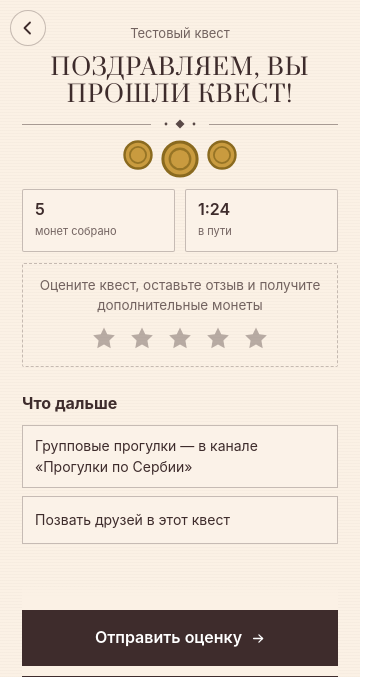
Test: the finale pays the review as it happens (#113) › pays the stars on the FIRST tap — coin toast and the counter move together
Expected: the heading "Поздравляем, вы прошли квест!" is shown, [51,52,309,110]
Expected: the element showing "5 монет собрано" is shown, [22,189,175,252]
Step 1. Click the button named "4 звёзд" → (218, 338), box [203,323,233,353]
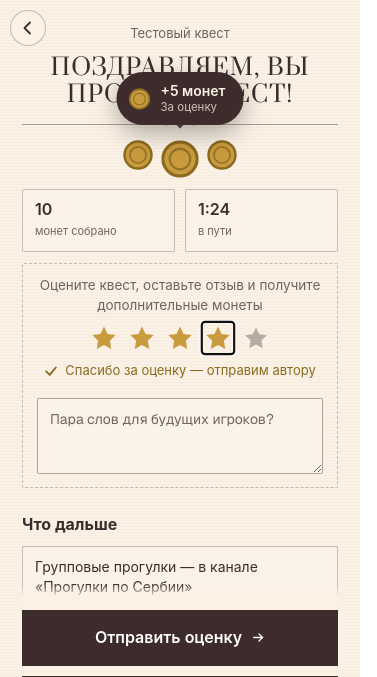
Result: the text "+5 монет" is shown at [160,82,226,99]
Result: the text "За оценку" is shown at [160,100,226,115]
Result: the element showing "10 монет собрано" is shown at [22,189,175,252]
